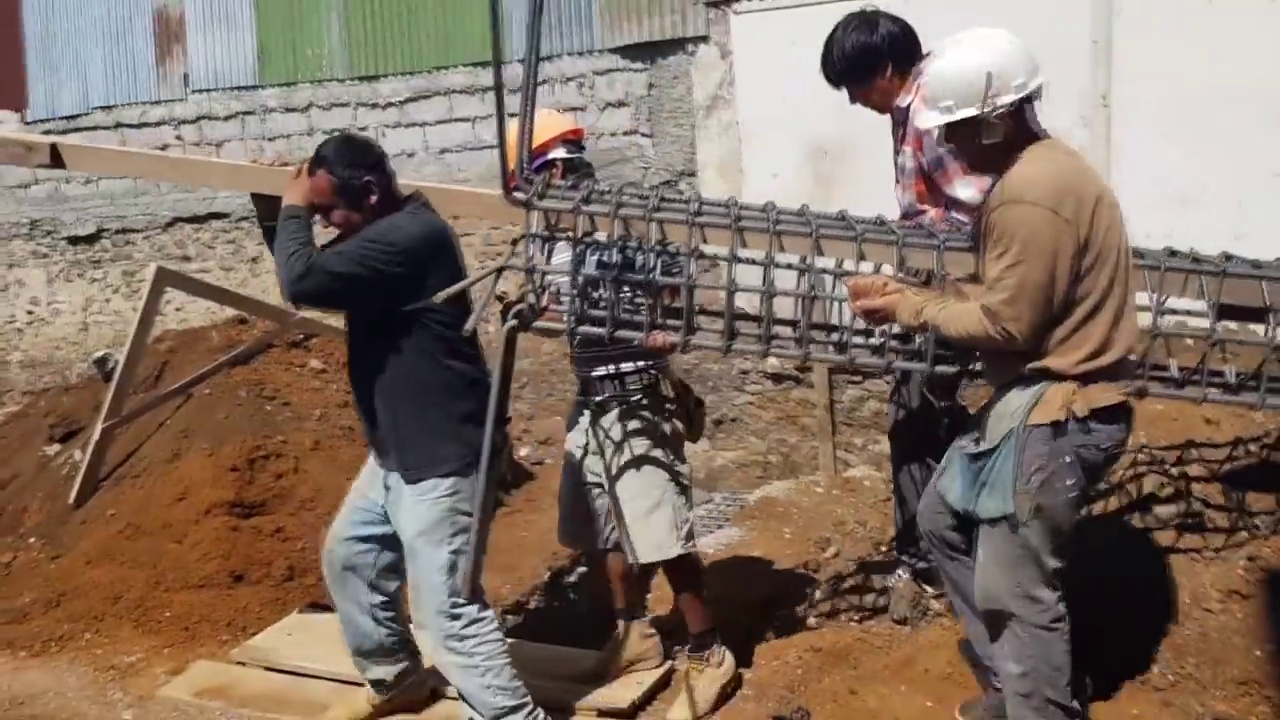helmet: (914, 29, 1055, 140), (506, 107, 588, 173)
helmet-off: (821, 5, 927, 130), (286, 124, 400, 237)
helmet-on: (914, 26, 1068, 188), (506, 96, 603, 230)
person: (847, 26, 1141, 708), (496, 95, 745, 716), (267, 128, 518, 720), (820, 16, 986, 618)
